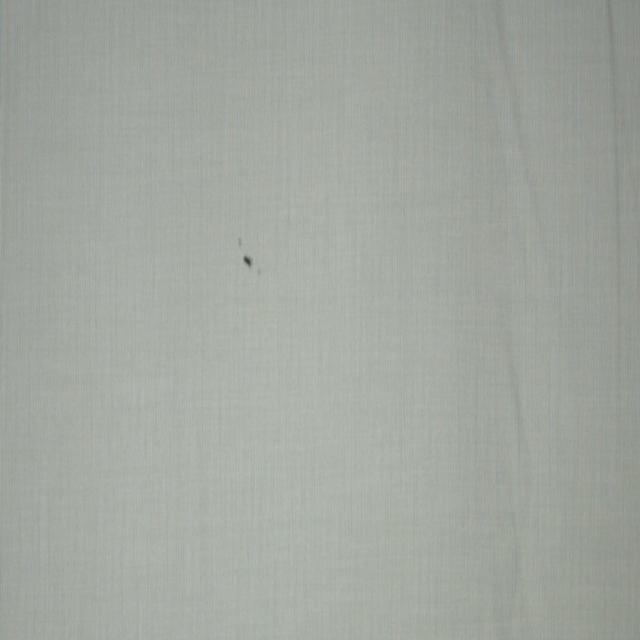dirty: (238, 238, 261, 277)
